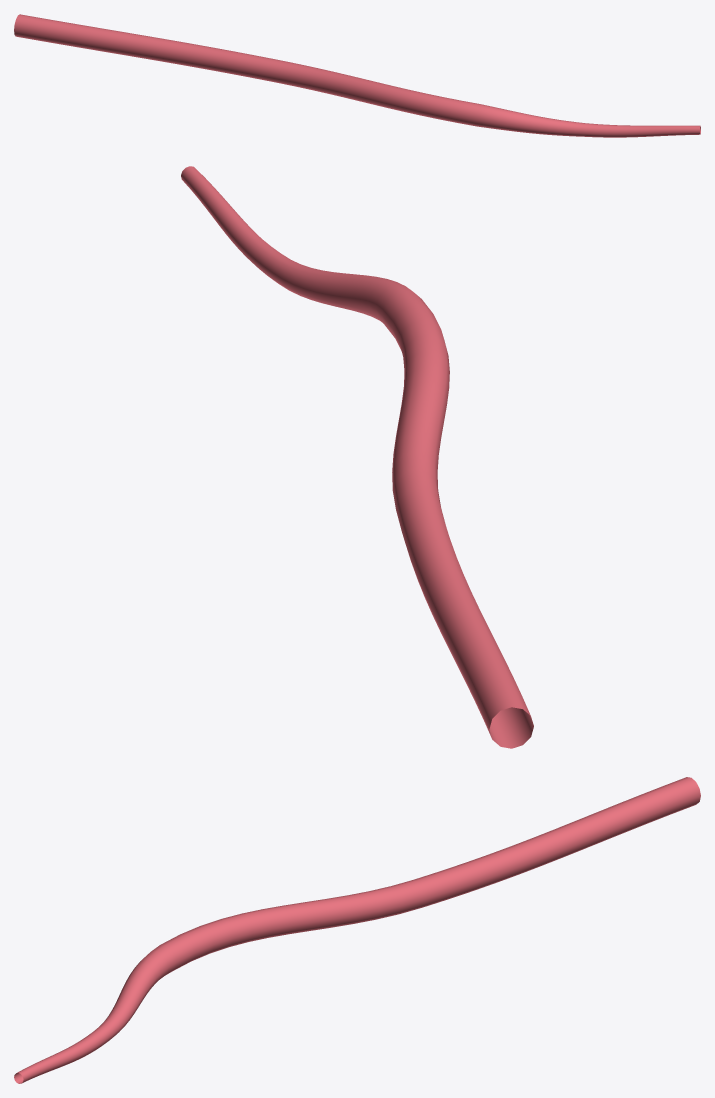
The picture shows the model from 3 angles, top to bottom: view 1: azimuth 30°, elevation 25°; view 2: azimuth 150°, elevation 25°; view 3: azimuth 270°, elevation 25°; orthographic projection. The views are drawn at different scales.
Parts seen in each view (by area): view 1: ZA_ce35d9ce1dd59f6b; view 2: ZA_ce35d9ce1dd59f6b; view 3: ZA_ce35d9ce1dd59f6b.
Boxes of the visible parts, left/top/right/bottom form: ZA_ce35d9ce1dd59f6b: left=14, top=14, right=700, bottom=137; ZA_ce35d9ce1dd59f6b: left=181, top=166, right=533, bottom=748; ZA_ce35d9ce1dd59f6b: left=14, top=777, right=700, bottom=1083.
Bounding box in the file's own units: 0.0219 × 0.00186 × 0.0234.
